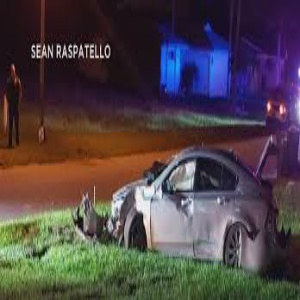door: (160, 196, 218, 255)
